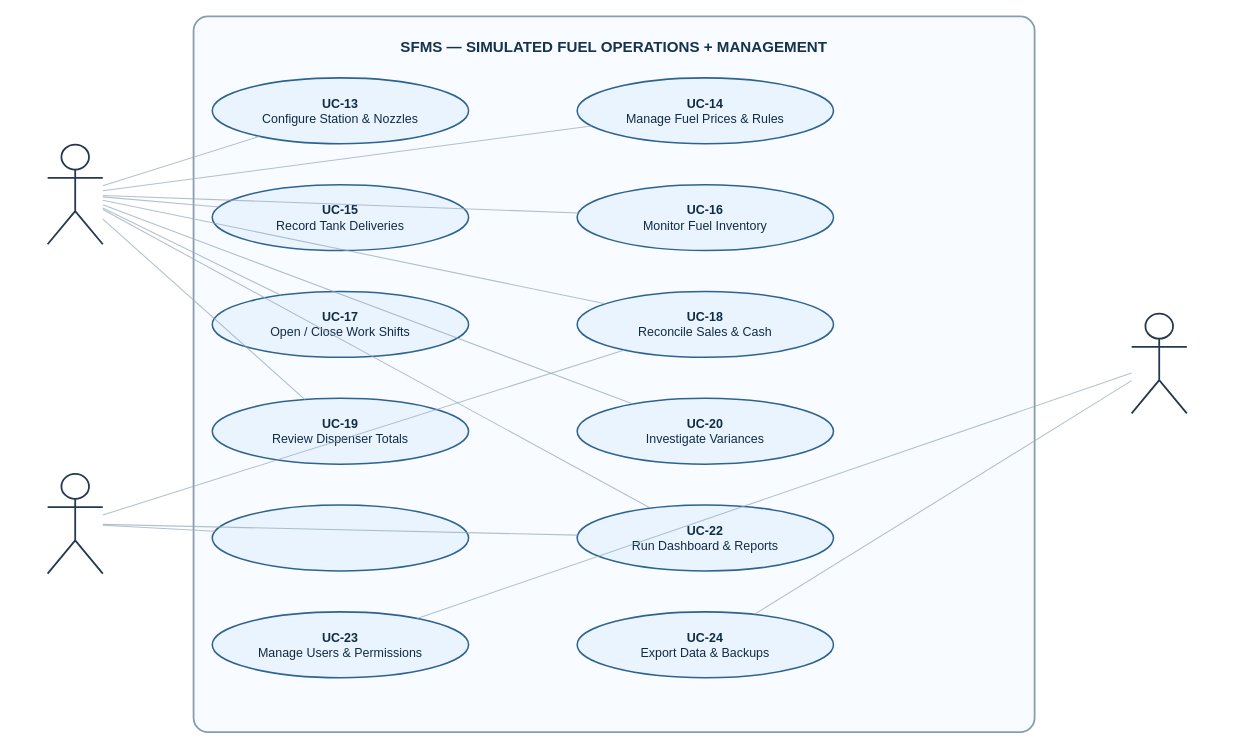
Image size: 1237x748. Some labels were removed from this diagram. Here are the shapes that lost their labels. From the top down, the box of each, then its label:
(46, 143, 103, 245): Station Manager
(1130, 312, 1187, 414): System Administrator
(46, 473, 103, 574): Accountant / Auditor
(211, 504, 469, 571): UC-21 Review Audit History
